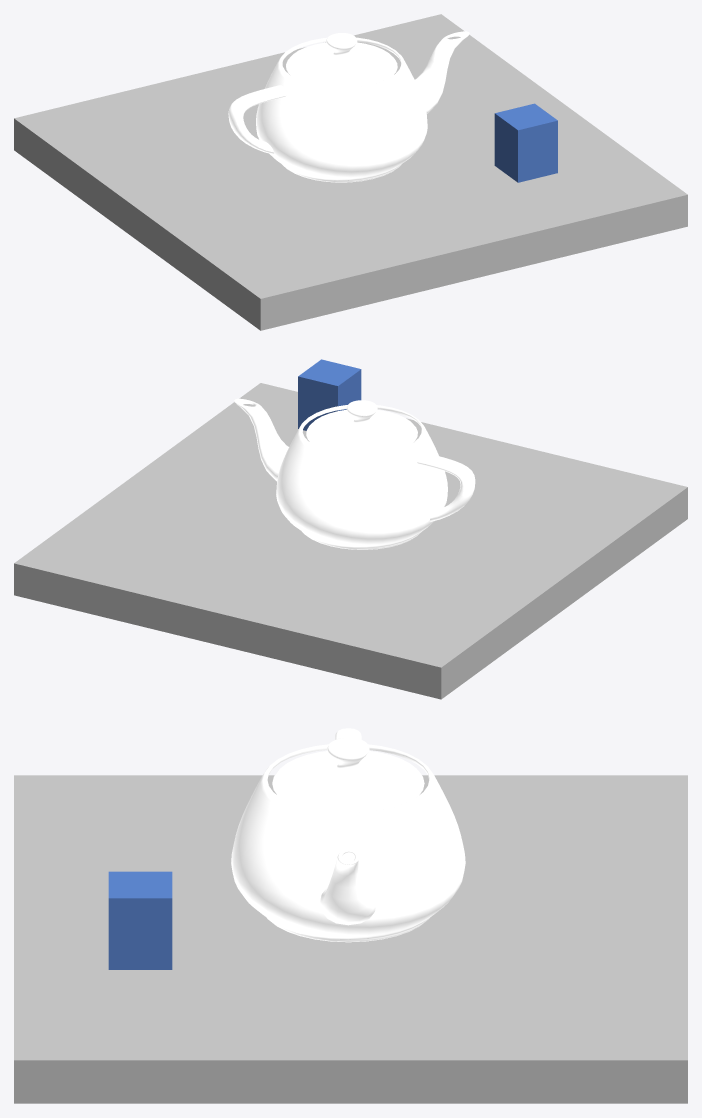
File: 20_emissive.gltf
The picture shows the model from 3 angles, top to bottom: view 1: azimuth 30°, elevation 25°; view 2: azimuth 150°, elevation 25°; view 3: azimuth 270°, elevation 25°; orthographic projection. The views are drawn at different scales.
Visible parts, largest first — view 1: Box002, Teapot001, Box001; view 2: Box002, Teapot001, Box001; view 3: Box002, Teapot001, Box001.
Part boxes in pixels (bbox=[...]): Box002: bbox=[14, 14, 687, 330]; Teapot001: bbox=[228, 31, 469, 182]; Box001: bbox=[494, 103, 557, 182]; Box002: bbox=[14, 383, 687, 699]; Teapot001: bbox=[234, 398, 475, 549]; Box001: bbox=[298, 359, 361, 430]; Box002: bbox=[14, 775, 687, 1103]; Teapot001: bbox=[231, 728, 465, 942]; Box001: bbox=[108, 871, 172, 969].
Bounding box in the file's own units: 3.56 × 1.23 × 3.56.
